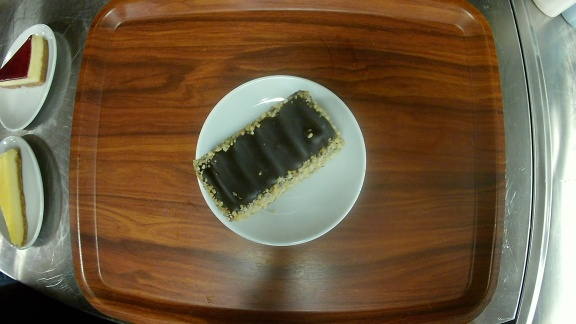muzlupasta: (194, 75, 368, 246)
